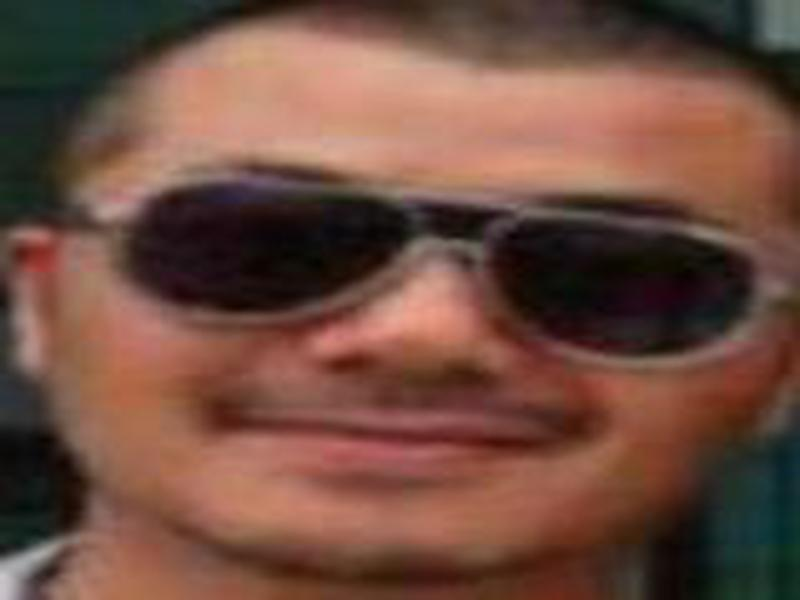without_mask: (44, 23, 778, 585)
